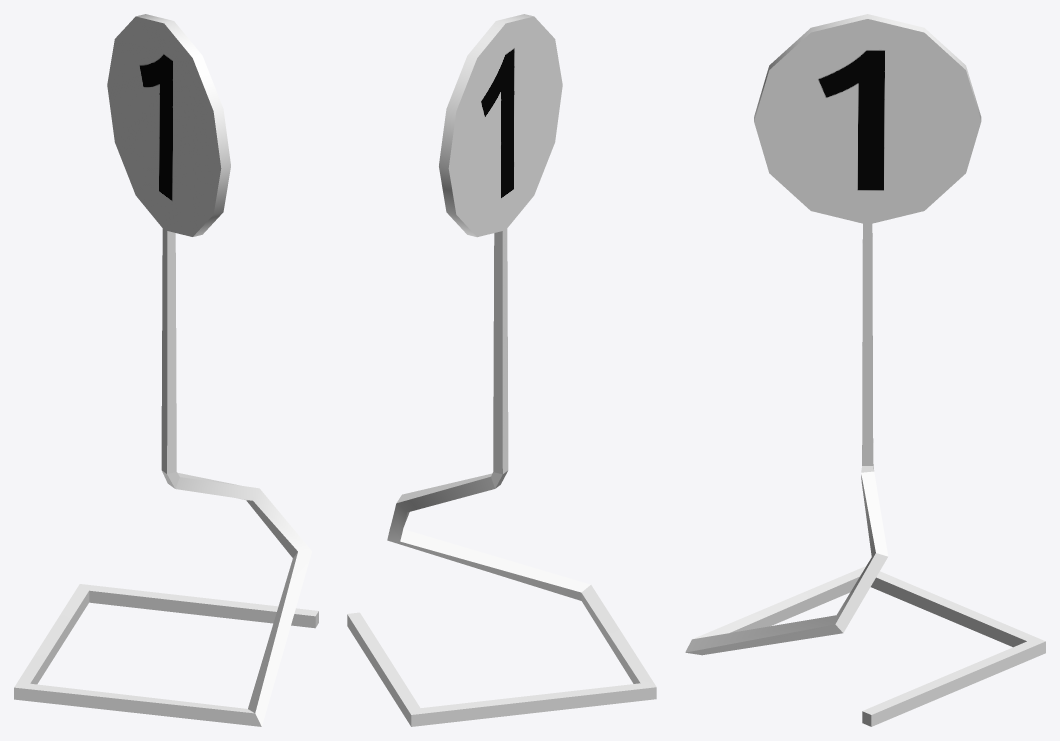
Rendered from Marker_1.FBX.
3 renders of one model, left to right at view 1: azimuth 30°, elevation 25°; view 2: azimuth 150°, elevation 25°; view 3: azimuth 270°, elevation 25°, orthographic.
Visible parts, largest first — view 1: Marker_1; view 2: Marker_1; view 3: Marker_1.
Part boxes in pixels (x1,y1,x2,y2): Marker_1: (14,14,318,726); Marker_1: (347,14,656,726); Marker_1: (685,14,1045,726).
Size of the model in its own units: 4.03 by 8.02 by 4.11.
